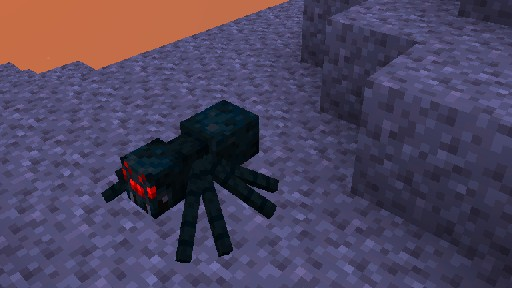cave_spider: (100, 98, 279, 264)
